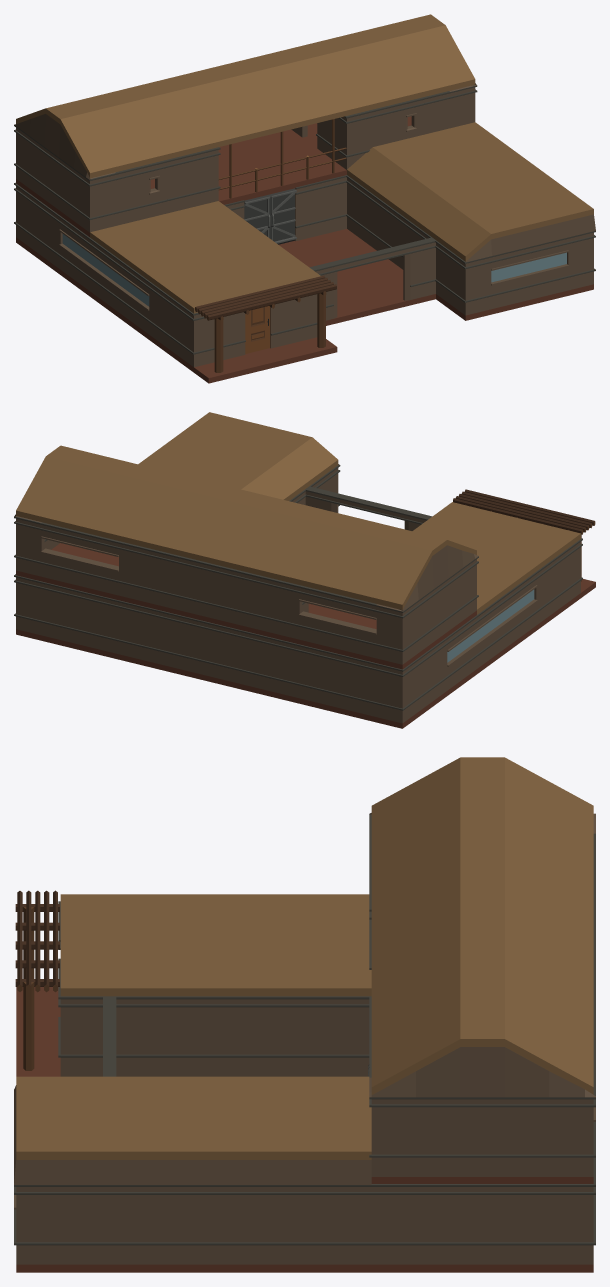
File: casa 6.fbx
The picture shows the model from 3 angles, top to bottom: view 1: azimuth 30°, elevation 25°; view 2: azimuth 150°, elevation 25°; view 3: azimuth 270°, elevation 25°; orthographic projection. The views are drawn at different scales.
Parts seen in each view (by area): view 1: Cube.066; view 2: Cube.066; view 3: Cube.066.
Part boxes in pixels (x1,y1,x2,y2): Cube.066: [14, 14, 595, 383]; Cube.066: [14, 412, 595, 728]; Cube.066: [14, 757, 595, 1272].
Size of the model in its own units: 3020 by 1160 by 2620.
